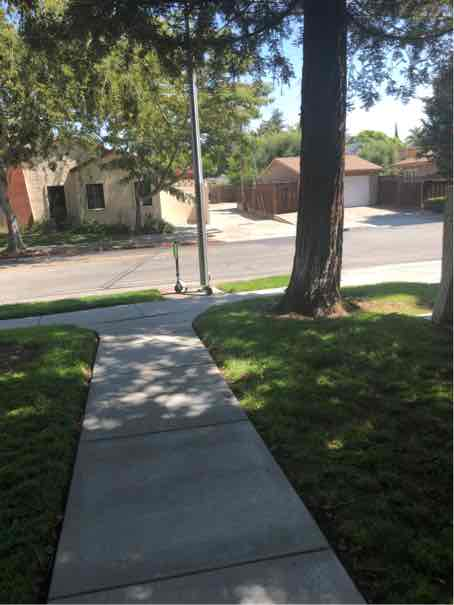scooter: (166, 232, 219, 298)
